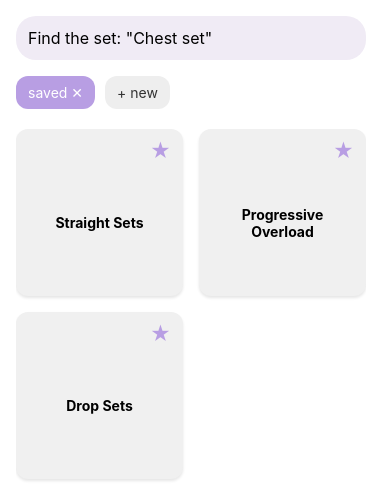
Test: KnowledgeLibrary › filters exercises based on search query
Step 1. Type "drop" into the field with placeholder "Find the set: \"Chest set\"" → (191, 38), box 16,16 -> 366,60
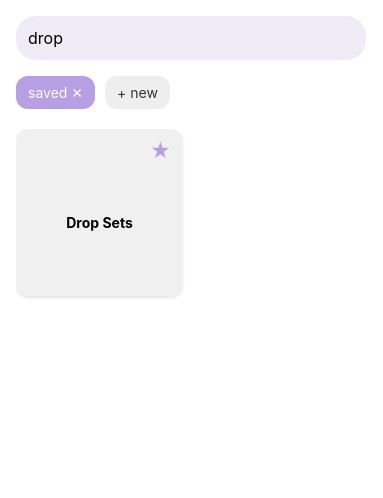
expect the text "Drop Sets" is shown: met, box 66,214 -> 133,231
expect the text "Straight Sets" is gone: met
